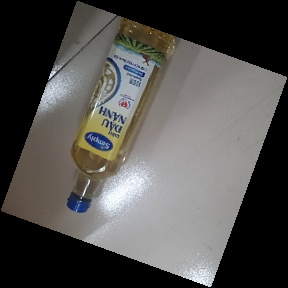Simply: (65, 7, 176, 219)
